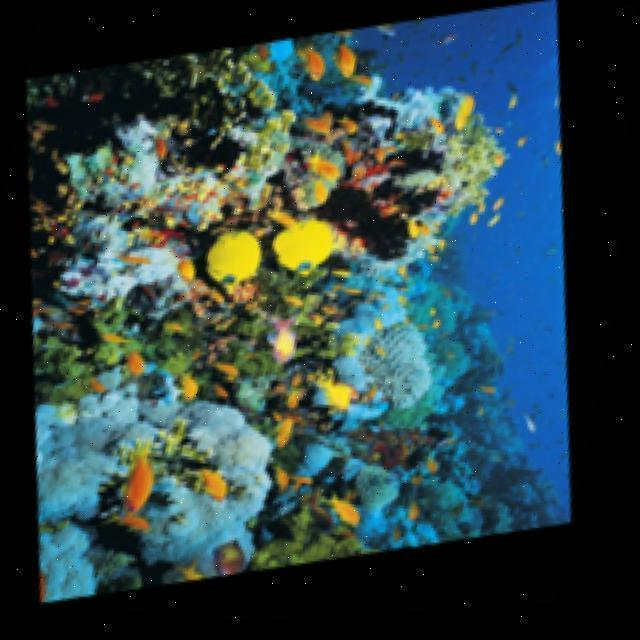Bleached Coral: (14, 348, 318, 590), (318, 306, 506, 442)
Healthy Coral: (249, 52, 562, 289)
